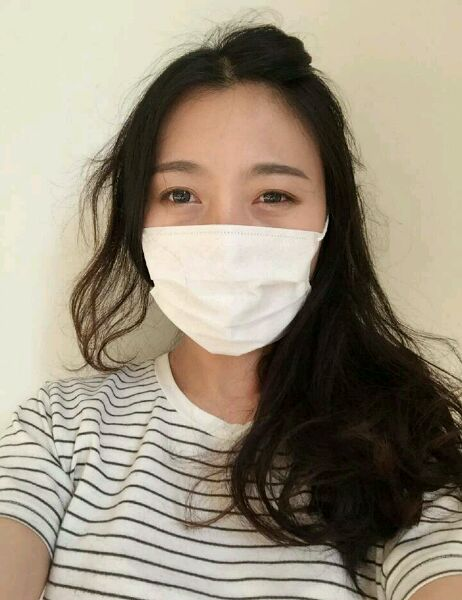face_mask: (143, 77, 321, 340)
